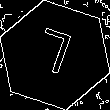L_S: (31, 26, 79, 84)
